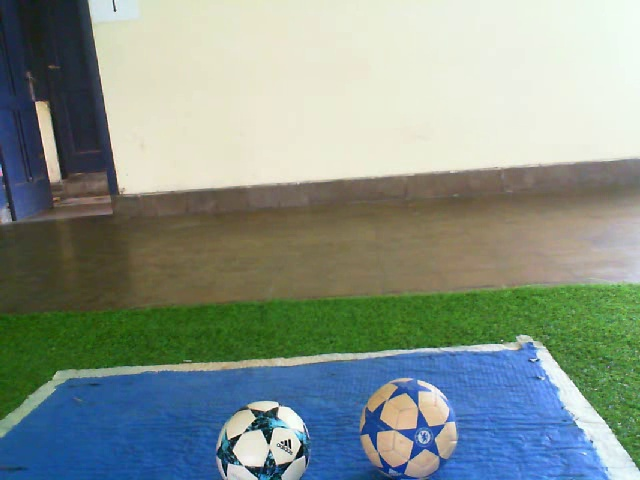ball: (356, 375, 462, 480), (212, 398, 314, 480)
